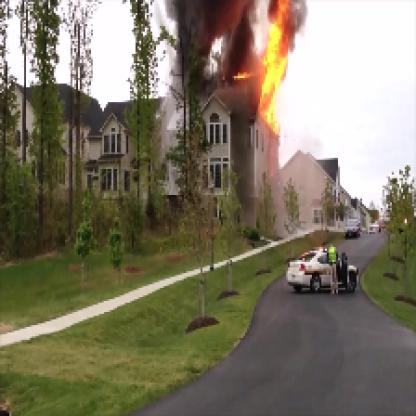Fire: (230, 2, 308, 132)
Smoke: (174, 2, 262, 98)
